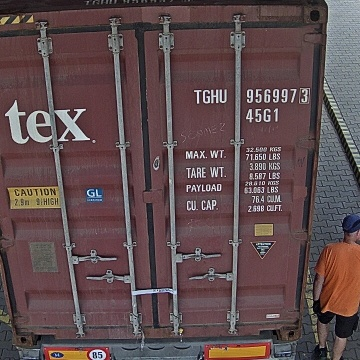serial_id: (194, 88, 309, 103)
